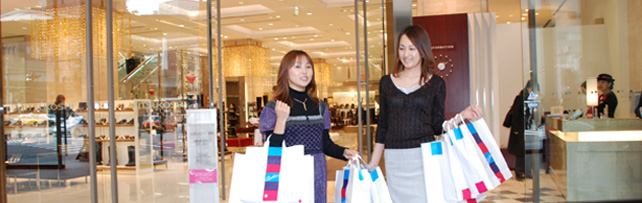Age_20_30: (285, 54, 316, 88), (397, 31, 424, 68), (595, 74, 612, 91)
E_Asian: (285, 54, 316, 88), (397, 31, 424, 68), (595, 74, 612, 91)
Emotion_Happy: (285, 54, 316, 88), (397, 31, 424, 68)
Emotion_Neutral: (595, 74, 612, 91)
G_ Female: (285, 54, 316, 88), (397, 31, 424, 68), (595, 74, 612, 91)
